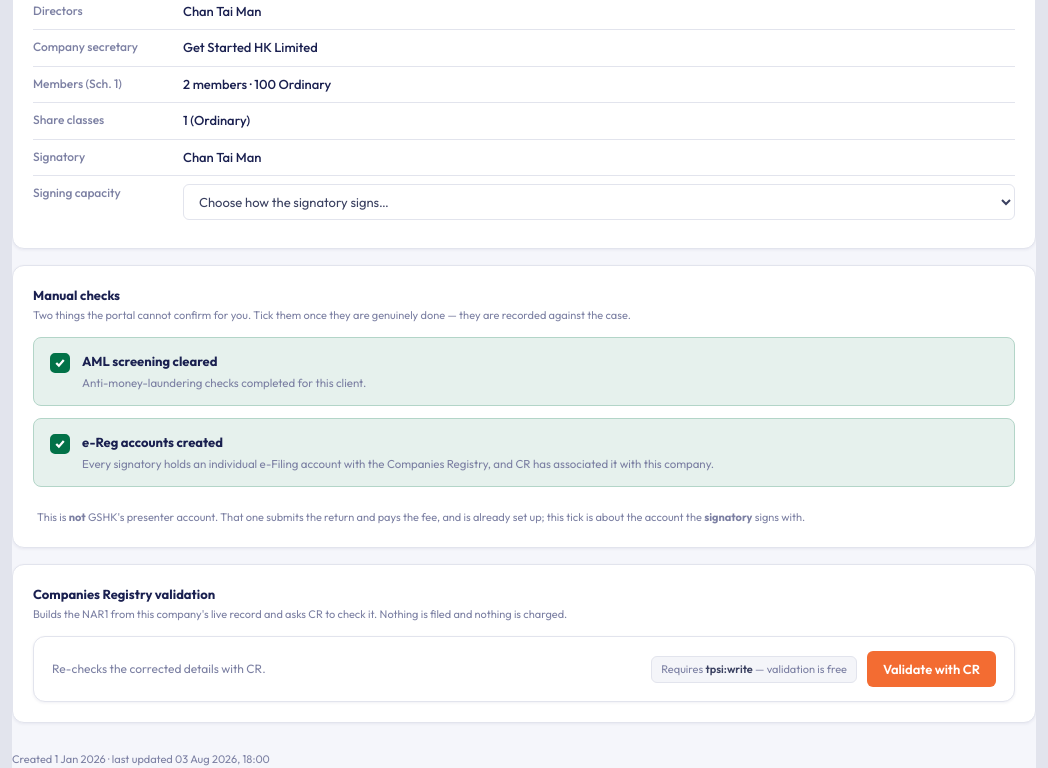
Scenario: CaseWorkflowPage — a failure must reach the viewport › still shows the error when the browser cannot scroll
(page scrolled)
Click the button "Validate with CR".
click(932, 669)  # box left=867, top=651, right=996, bottom=687
(page scrolled)
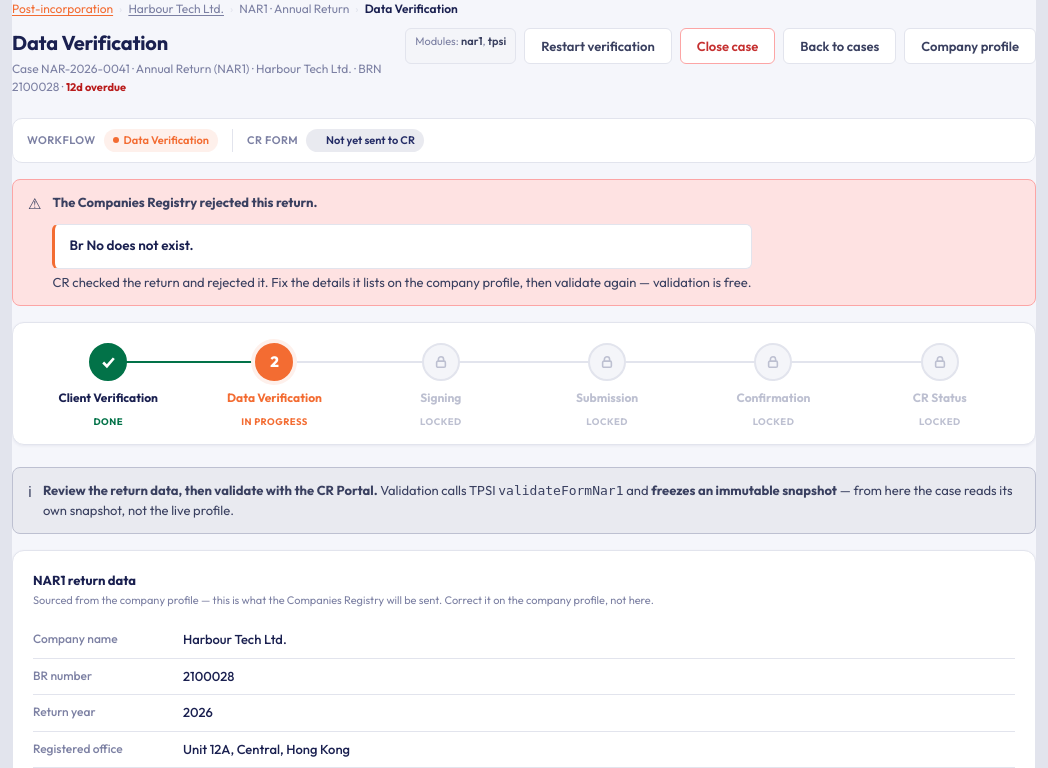
Expected: the text "Br No does not exist." is shown, left=70, top=236, right=194, bottom=254
